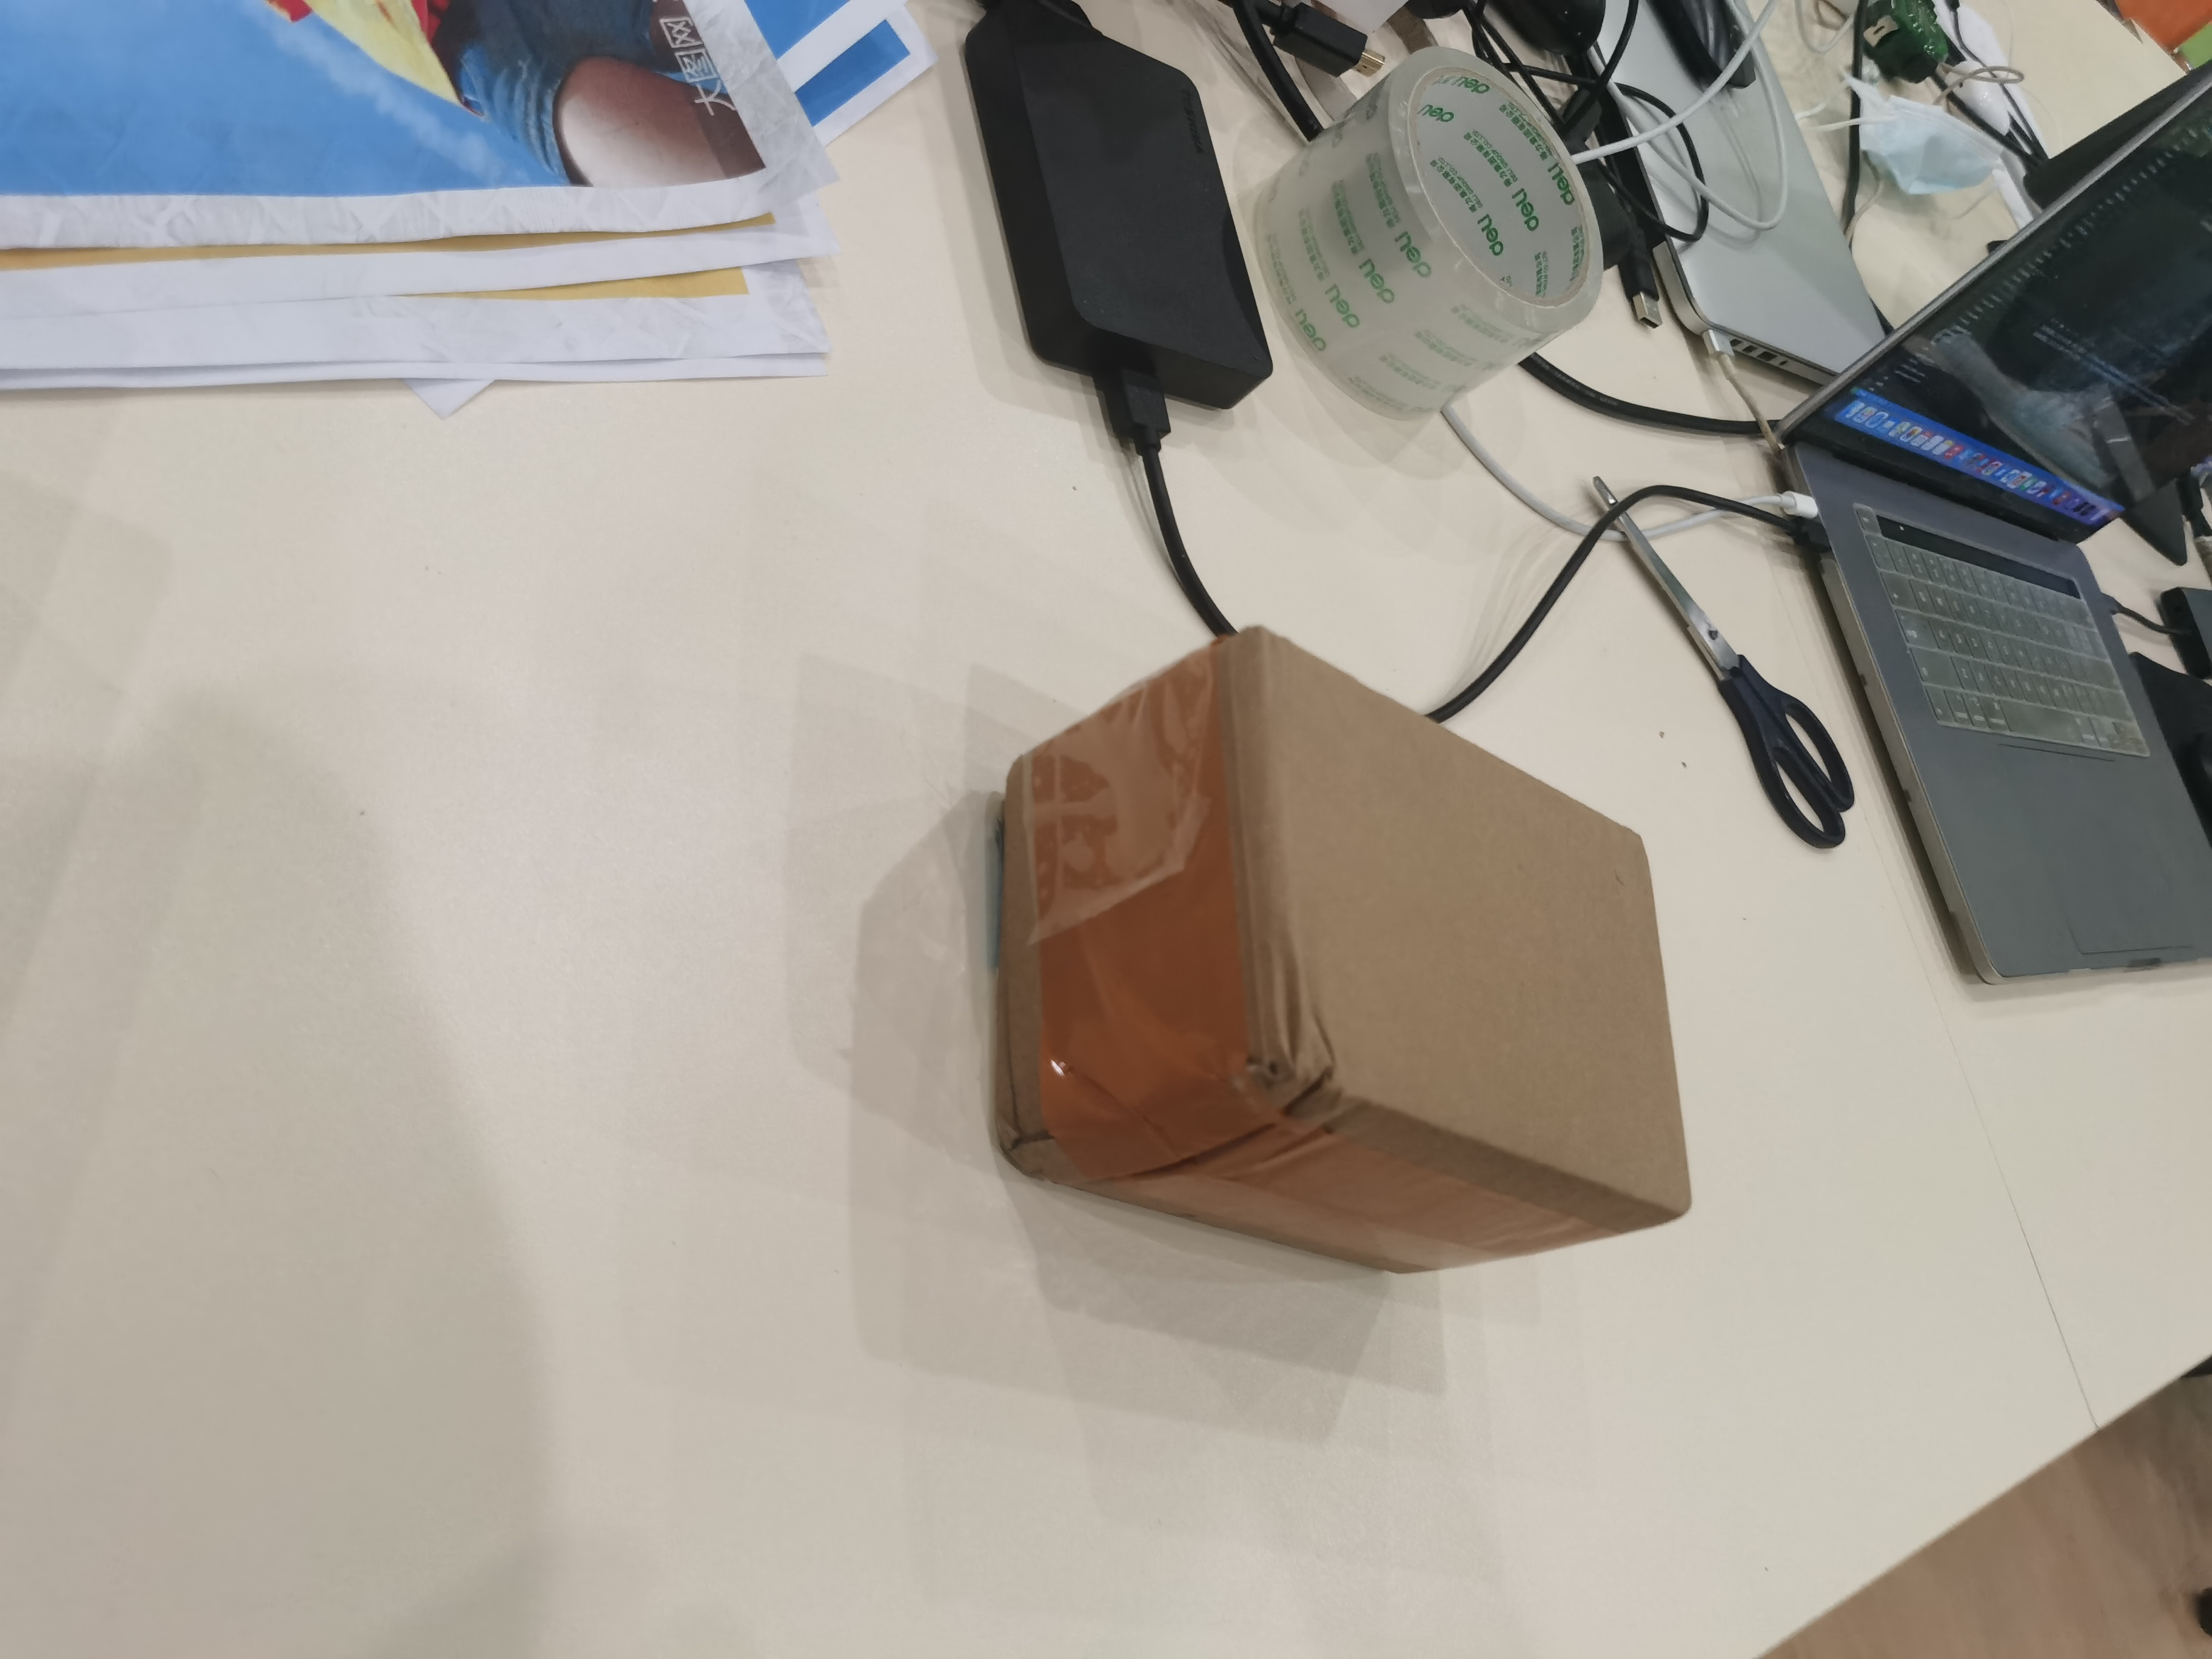box: (968, 610, 1719, 1351)
